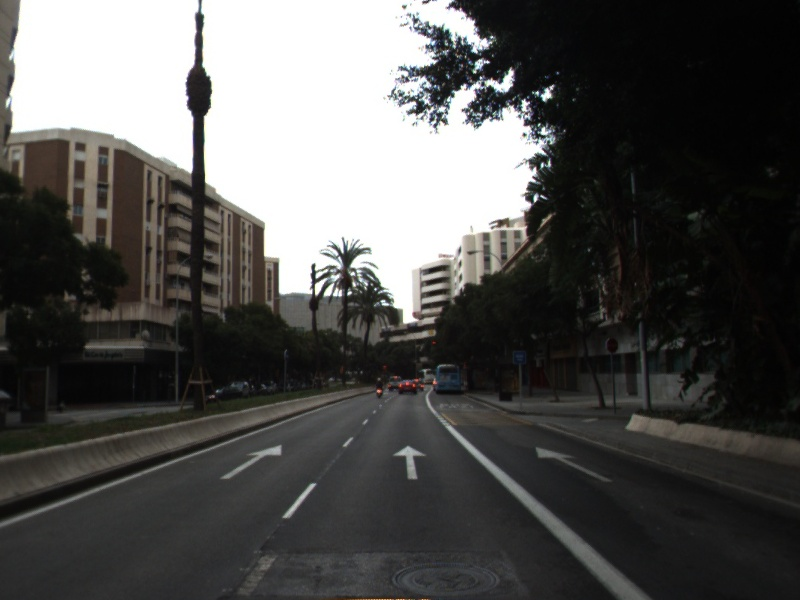STRAIGHT: (534, 445, 616, 484), (217, 443, 283, 481), (391, 443, 429, 482)
